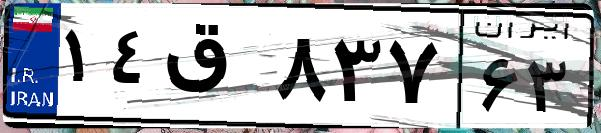1: (57, 26, 110, 100)
3: (330, 28, 385, 110), (525, 38, 570, 115)
4: (110, 28, 158, 98)
6: (475, 38, 525, 113)
7: (385, 28, 445, 110)
8: (270, 28, 330, 110)
ق: (158, 20, 270, 120)
